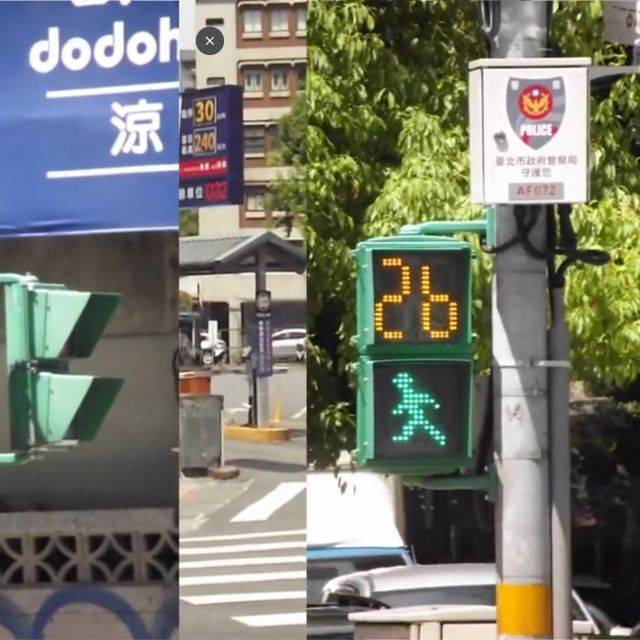green_light: (355, 243, 474, 465)
